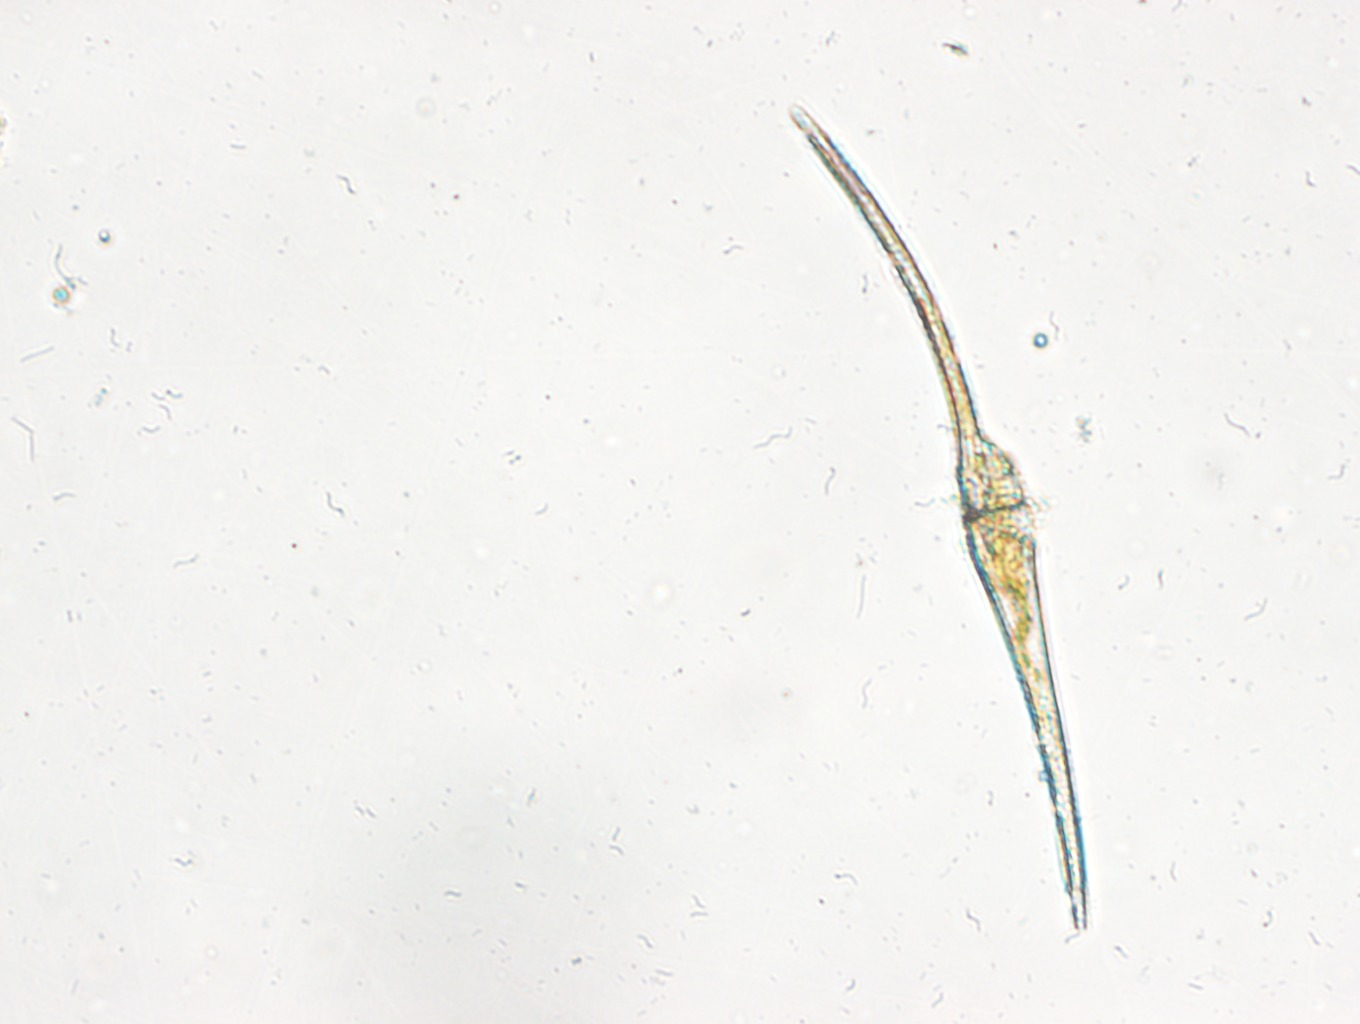ceratium fusus: (782, 100, 1098, 940)
